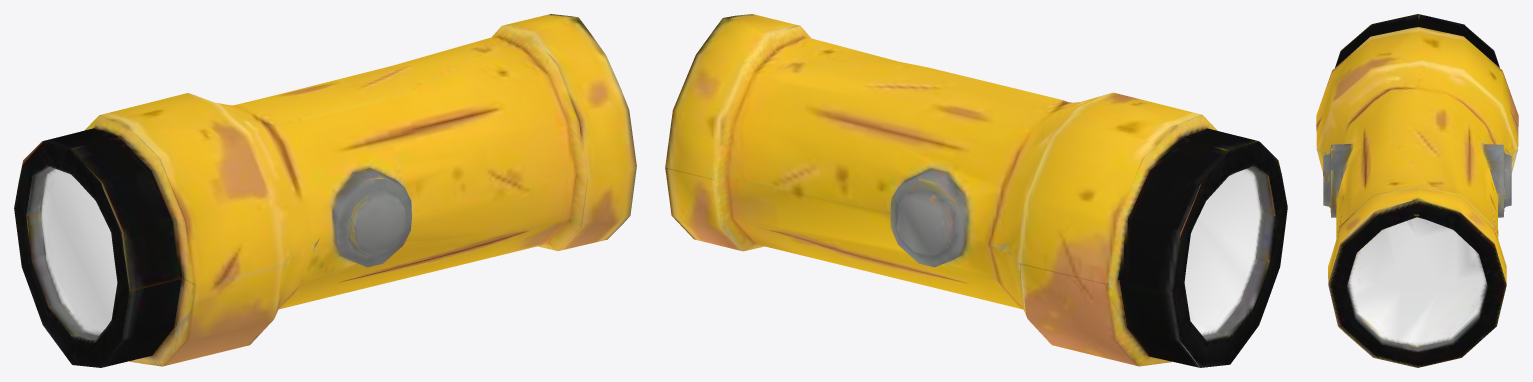
File: flashlight.glb
3 renders of one model, left to right at view 1: azimuth 30°, elevation 25°; view 2: azimuth 150°, elevation 25°; view 3: azimuth 270°, elevation 25°, orthographic. The views are drawn at different scales.
Parts seen in each view (by area): view 1: Mesh1.0; view 2: Mesh1.0; view 3: Mesh1.0.
Part boxes in pixels (x1,y1,x2,y2): Mesh1.0: (14,14,636,367); Mesh1.0: (665,14,1287,367); Mesh1.0: (1316,14,1518,367).
Bounding box in the file's own units: 1.91 × 0.8443 × 0.8389.
1 material, 1 textured.
